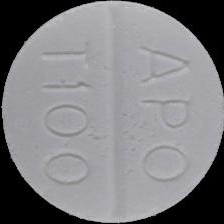0904-6555: (0, 0, 224, 224)
